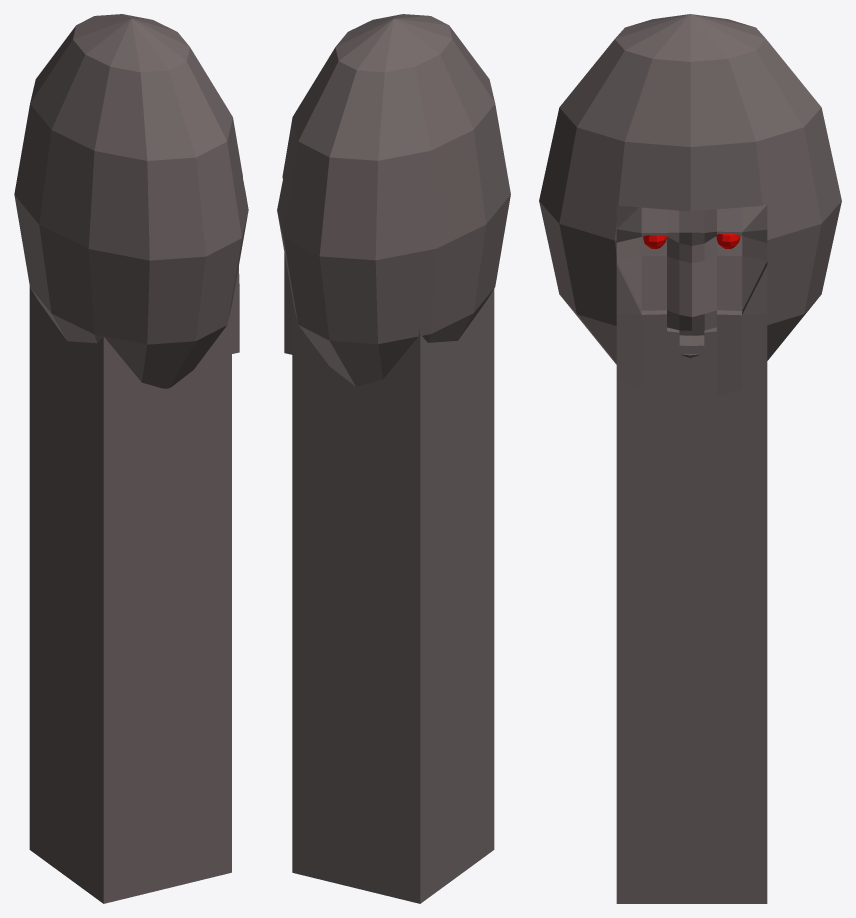
Rendered from idol_3.fbx.
3 renders of one model, left to right at view 1: azimuth 30°, elevation 25°; view 2: azimuth 150°, elevation 25°; view 3: azimuth 270°, elevation 25°, orthographic.
Visible parts, largest first — view 1: Cube; view 2: Cube; view 3: Cube.
Part boxes in pixels (box(x1,y1,x2,y2)): Cube: box(14, 14, 248, 903); Cube: box(277, 14, 510, 903); Cube: box(539, 14, 841, 903).
Size of the model in its own units: 281 by 1256 by 402.
2 materials, 1 textured.
